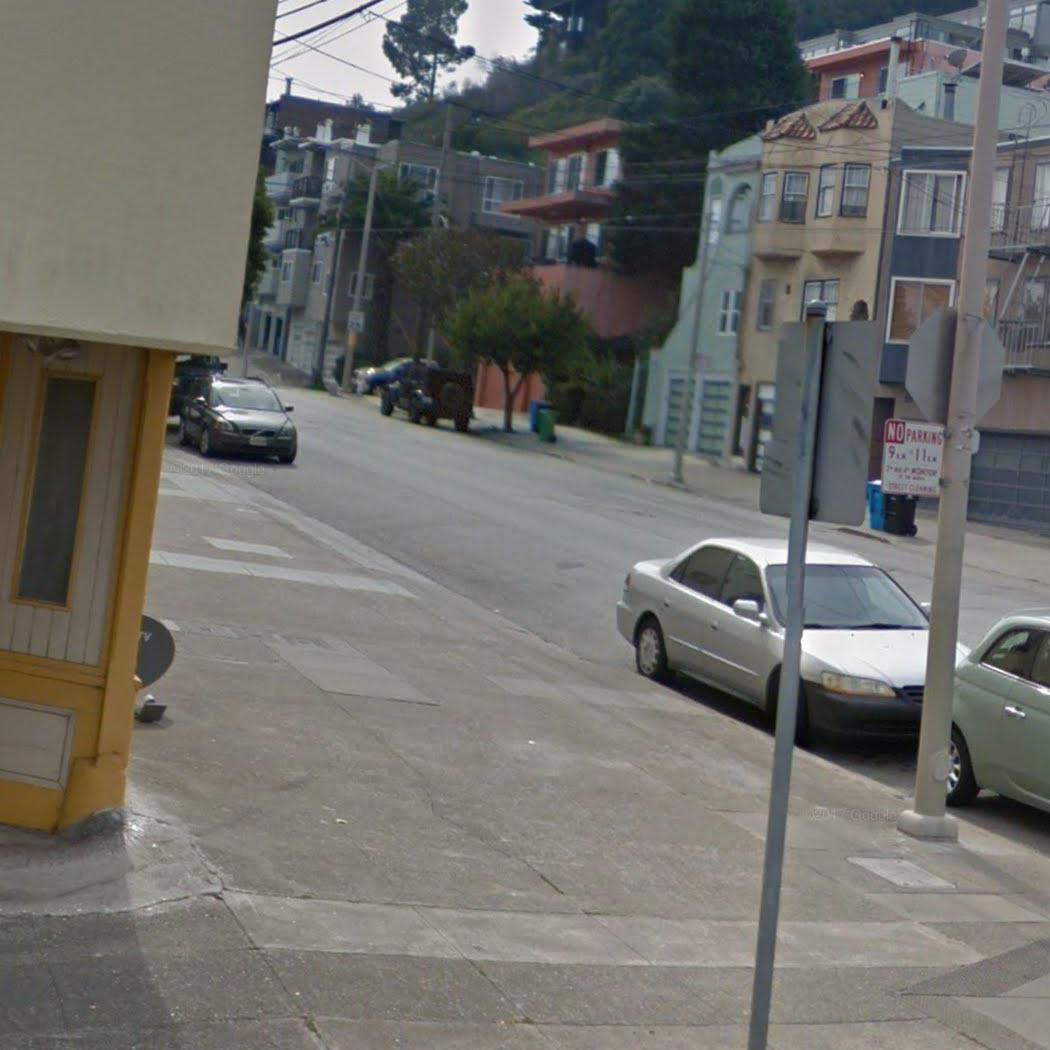No Parking: (880, 414, 951, 494)
